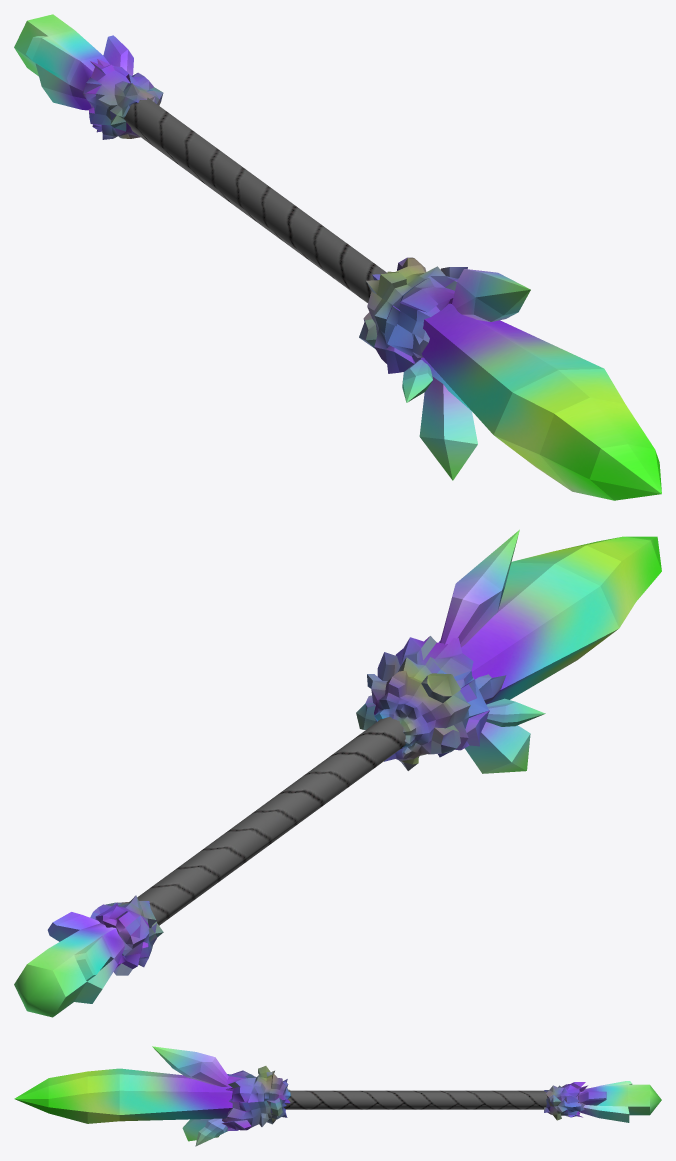
File: staff_raw_crystal.fbx
3 views of the same model, one above another, from view 1: azimuth 30°, elevation 25°; view 2: azimuth 150°, elevation 25°; view 3: azimuth 270°, elevation 25° (orthographic). The views are drawn at different scales.
Parts seen in each view (by area): view 1: staff_raw_crystal_gems_tip_huge, staff_raw_crystal_handle, staff_raw_crystal_gems_tip_small, staff_raw_crystal_gems_back_small; view 2: staff_raw_crystal_gems_tip_huge, staff_raw_crystal_handle, staff_raw_crystal_gems_tip_small, staff_raw_crystal_gems_back_small; view 3: staff_raw_crystal_gems_tip_huge, staff_raw_crystal_handle, staff_raw_crystal_gems_tip_small, staff_raw_crystal_gems_back_small.
Boxes of the visible parts, x1=… form: staff_raw_crystal_gems_tip_huge: x1=402, y1=269, x2=661, y2=500; staff_raw_crystal_handle: x1=14, y1=14, x2=386, y2=302; staff_raw_crystal_gems_tip_small: x1=359, y1=257, x2=467, y2=373; staff_raw_crystal_gems_back_small: x1=82, y1=59, x2=163, y2=139; staff_raw_crystal_gems_tip_huge: x1=439, y1=529, x2=661, y2=773; staff_raw_crystal_handle: x1=14, y1=717, x2=405, y2=1017; staff_raw_crystal_gems_tip_small: x1=356, y1=636, x2=506, y2=770; staff_raw_crystal_gems_back_small: x1=90, y1=895, x2=163, y2=975; staff_raw_crystal_gems_tip_huge: x1=14, y1=1046, x2=232, y2=1146; staff_raw_crystal_handle: x1=284, y1=1081, x2=661, y2=1122; staff_raw_crystal_gems_tip_small: x1=222, y1=1066, x2=290, y2=1130; staff_raw_crystal_gems_back_small: x1=544, y1=1082, x2=587, y2=1120.
Size of the model in its own units: 25.12 by 36.91 by 205.
Materials: 3 (3 with a texture image).
